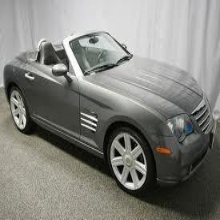no damage: (3, 30, 215, 197)
